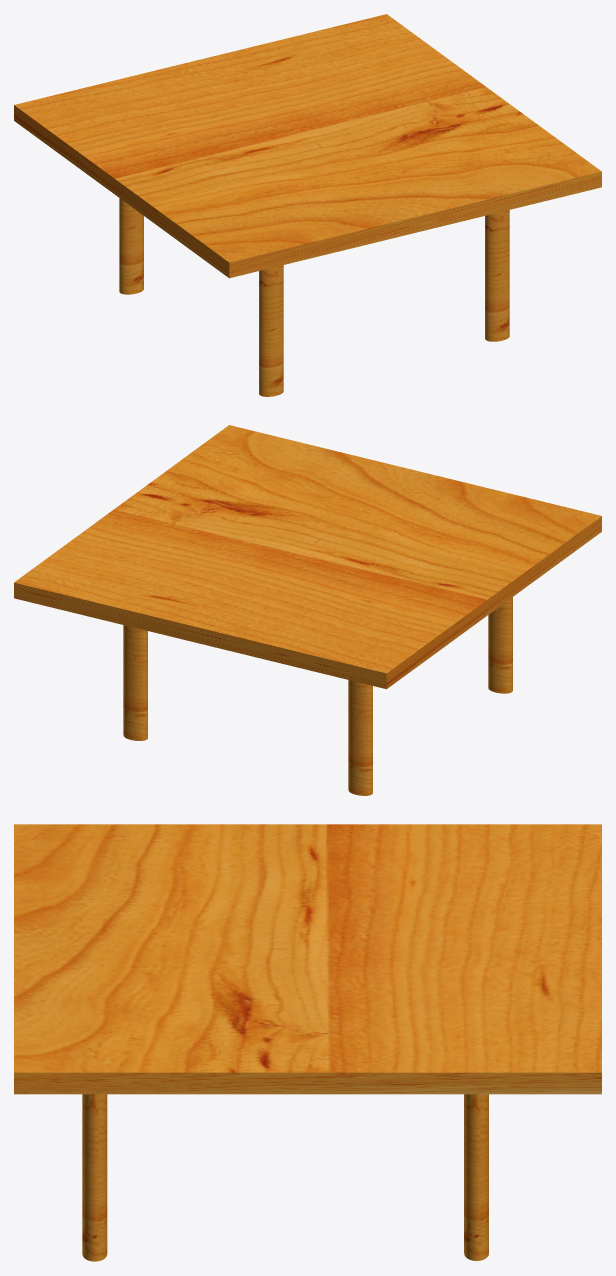
The model's file is table.fbx.
The picture shows the model from 3 angles, top to bottom: view 1: azimuth 30°, elevation 25°; view 2: azimuth 150°, elevation 25°; view 3: azimuth 270°, elevation 25°; orthographic projection. The views are drawn at different scales.
Parts seen in each view (by area): view 1: pCube1, pasted__pCylinder1 (×2), pasted__pasted__pCylinder1; view 2: pCube1, pCylinder1, pasted__pCylinder1, pasted__pasted__pCylinder1; view 3: pCube1, pasted__pCylinder1, pCylinder1.
Boxes of the visible parts, <box> form: pCube1: <box>14,14,601,278</box>; pasted__pCylinder1 (×2): <box>119,198,509,341</box>; pasted__pasted__pCylinder1: <box>259,265,283,396</box>; pCube1: <box>14,425,601,689</box>; pCylinder1: <box>123,625,147,740</box>; pasted__pCylinder1: <box>348,680,372,795</box>; pasted__pasted__pCylinder1: <box>488,597,512,693</box>; pCube1: <box>14,824,601,1094</box>; pasted__pCylinder1: <box>82,1094,107,1261</box>; pCylinder1: <box>464,1094,488,1260</box>.
Size of the model in its own units: 3.74 by 1.62 by 3.74.
1 material, 1 textured.
